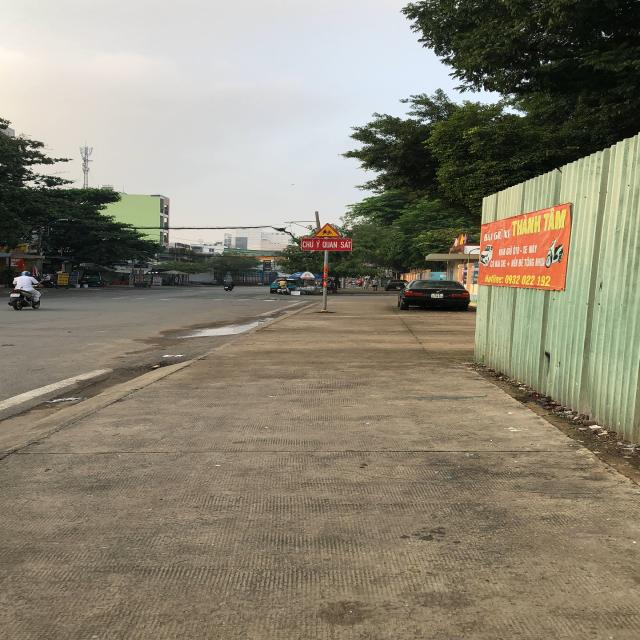Bien bao tre em: (311, 222, 342, 238)
